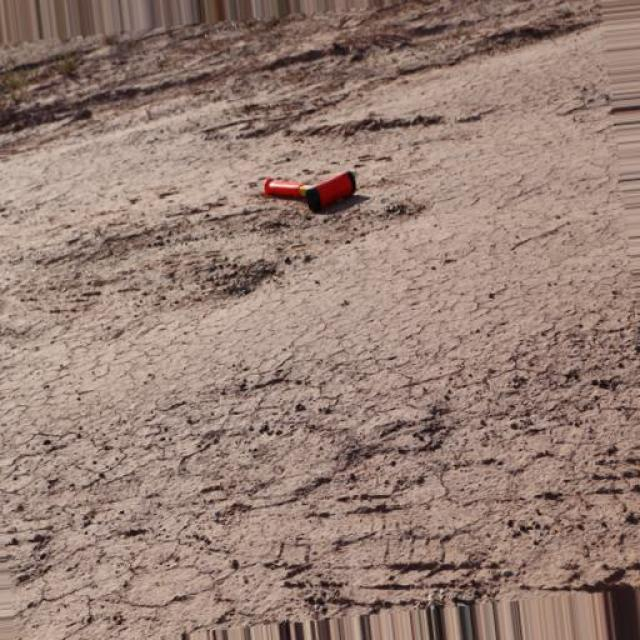mallet: (262, 168, 358, 212)
